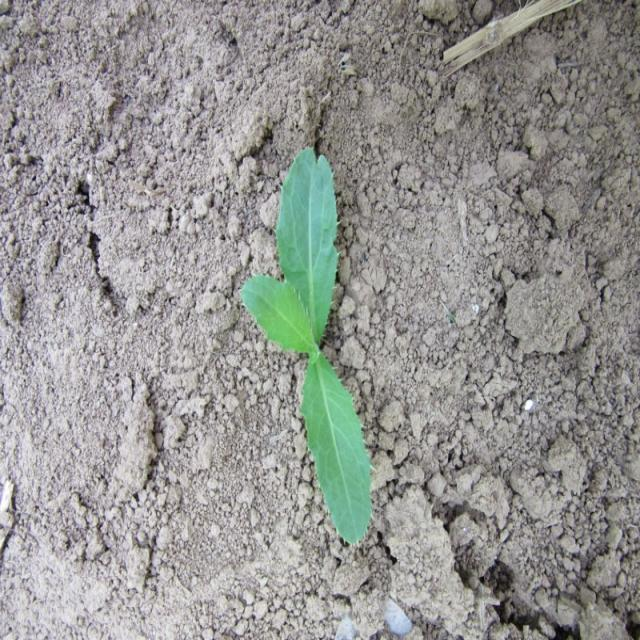field_thistle: (220, 153, 389, 561)
